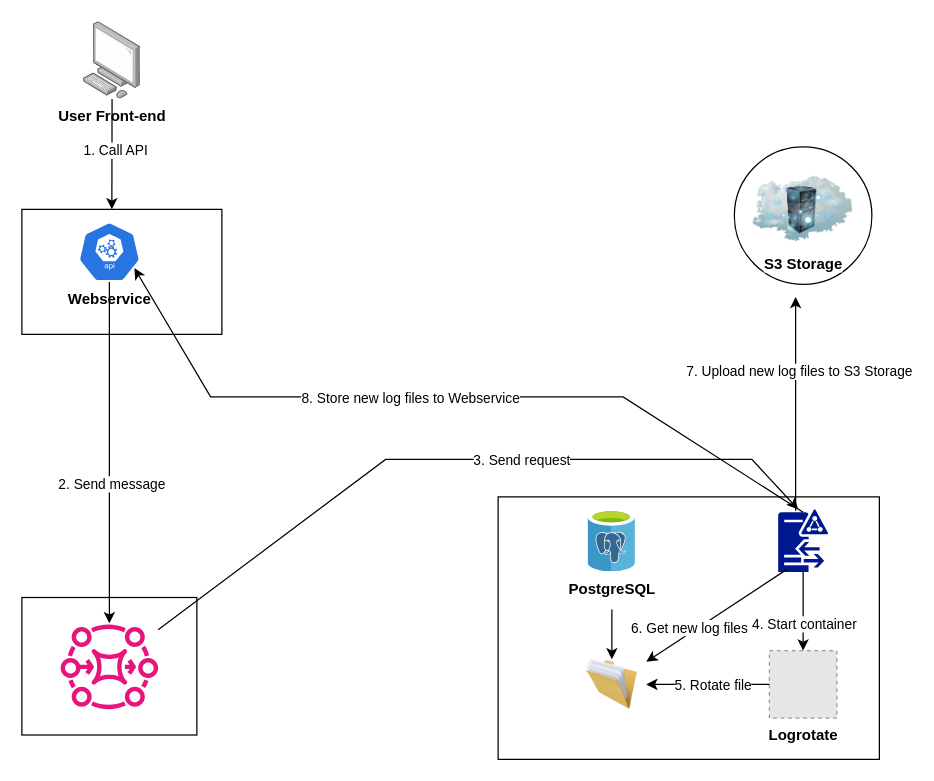
This 934x781 diagram has some shape labels left out. Grey dashed boxes stand in for pictures. The shapes that lost their labels are listed below. From the top down, each one's centre as x and y in pixels, then its label:
the point at 803,540: Guest Agent
the point at 109,665: RabbitMQ
the point at 611,684: Log File
